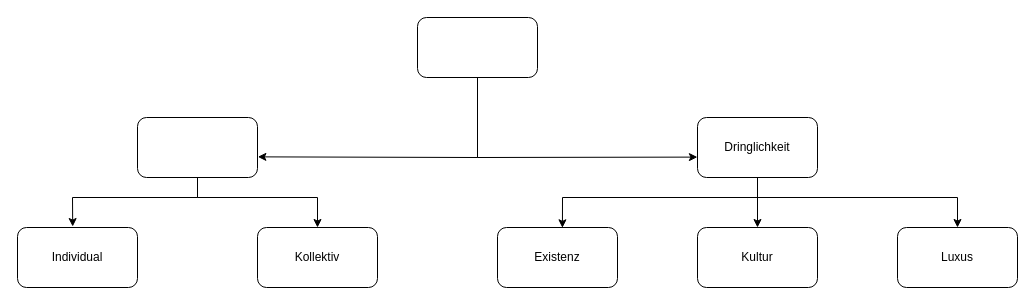
This 1035x305 diagram has some shape labels left out. The centre of each missing label's shape, as x and y in pixels:
Bedürfnisse: point 477,47
Personengruppen: point 197,147
